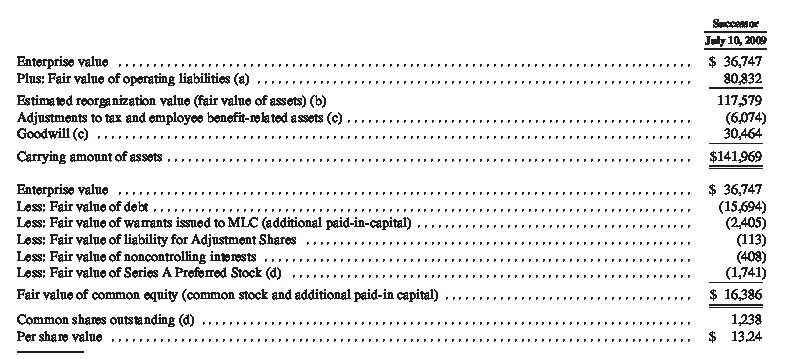table: (0, 0, 786, 359)
